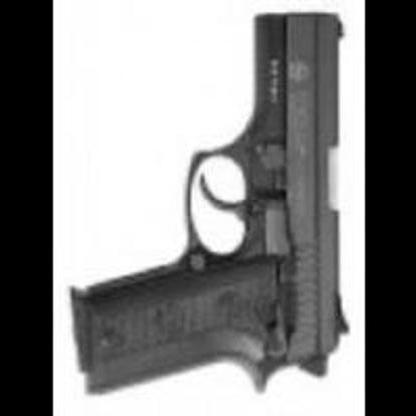weapon: (68, 9, 349, 410)
